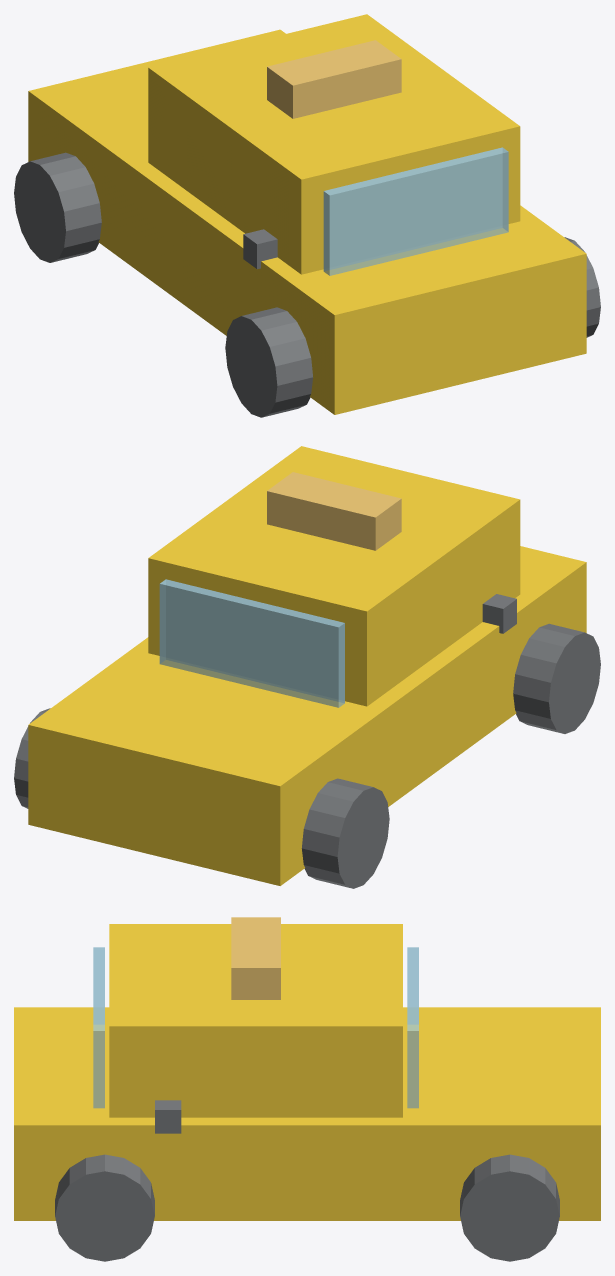
Rendered from taxi-cab-C9aAv9t3.glb.
3 renders of one model, top to bottom at view 1: azimuth 30°, elevation 25°; view 2: azimuth 150°, elevation 25°; view 3: azimuth 270°, elevation 25°, orthographic. The views are drawn at different scales.
Parts seen in each view (by area): view 1: Taxi_Body, Taxi_Cabin, Taxi_Front_Glass, Taxi_Wheel_-1.08_-1.38, Taxi_Wheel_-1.08_1.38, Taxi_Sign, Taxi_Checker, Taxi_Wheel_1.08_-1.38; view 2: Taxi_Body, Taxi_Cabin, Taxi_Back_Glass, Taxi_Wheel_-1.08_-1.38, Taxi_Wheel_-1.08_1.38, Taxi_Sign, Taxi_Checker, Taxi_Wheel_1.08_1.38; view 3: Taxi_Body, Taxi_Cabin, Taxi_Wheel_1.08_-1.38, Taxi_Wheel_1.08_1.38, Taxi_Sign, Taxi_Front_Glass, Taxi_Back_Glass, Taxi_Checker.
Boxes of the visible parts, x1,y1,x2,y2 form: Taxi_Body: (28, 29, 586, 414); Taxi_Cabin: (148, 14, 520, 274); Taxi_Front_Glass: (323, 147, 508, 275); Taxi_Wheel_-1.08_-1.38: (225, 307, 313, 417); Taxi_Wheel_-1.08_1.38: (14, 152, 101, 262); Taxi_Sign: (267, 40, 401, 118); Taxi_Checker: (243, 229, 277, 269); Taxi_Wheel_1.08_-1.38: (564, 237, 600, 337); Taxi_Body: (28, 546, 586, 885); Taxi_Cabin: (148, 446, 520, 706); Taxi_Back_Glass: (159, 579, 344, 707); Taxi_Wheel_-1.08_-1.38: (513, 623, 600, 733); Taxi_Wheel_-1.08_1.38: (301, 778, 389, 888); Taxi_Sign: (267, 472, 401, 550); Taxi_Checker: (482, 594, 516, 633); Taxi_Wheel_1.08_1.38: (14, 708, 50, 808); Taxi_Body: (14, 1007, 600, 1220); Taxi_Cabin: (109, 924, 402, 1117); Taxi_Wheel_1.08_-1.38: (55, 1154, 154, 1261); Taxi_Wheel_1.08_1.38: (460, 1154, 559, 1261); Taxi_Sign: (231, 917, 280, 999); Taxi_Front_Glass: (93, 947, 104, 1108); Taxi_Back_Glass: (407, 947, 418, 1108); Taxi_Checker: (155, 1100, 181, 1133).
Bounding box in the file's own units: 2.44 × 1.83 × 4.
